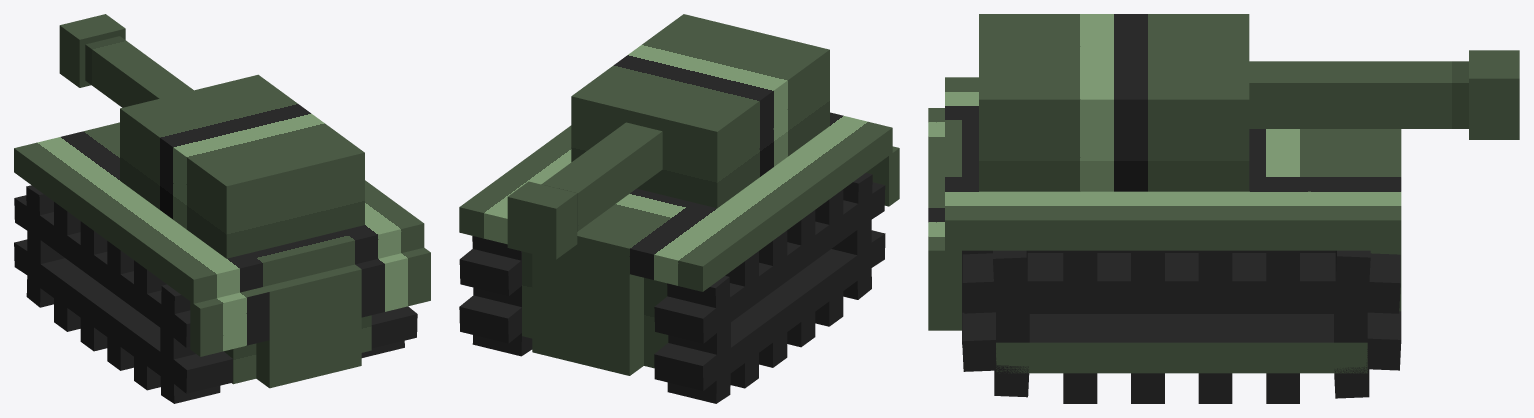
The model's file is tank.gltf.
3 views of the same model, side by side, from view 1: azimuth 30°, elevation 25°; view 2: azimuth 150°, elevation 25°; view 3: azimuth 270°, elevation 25° (orthographic). The views are drawn at different scales.
Visible parts, largest first — view 1: cube (×30); view 2: cube (×33); view 3: cube (×28).
Part boxes in pixels (left/top/right/bottom): cube (×30): left=14, top=14, right=430, bottom=403; cube (×33): left=459, top=14, right=899, bottom=403; cube (×28): left=928, top=14, right=1519, bottom=403.
Bounding box in the file's own units: 0.625 × 0.5625 × 1.09.
Materials: 4 (3 with a texture image).
